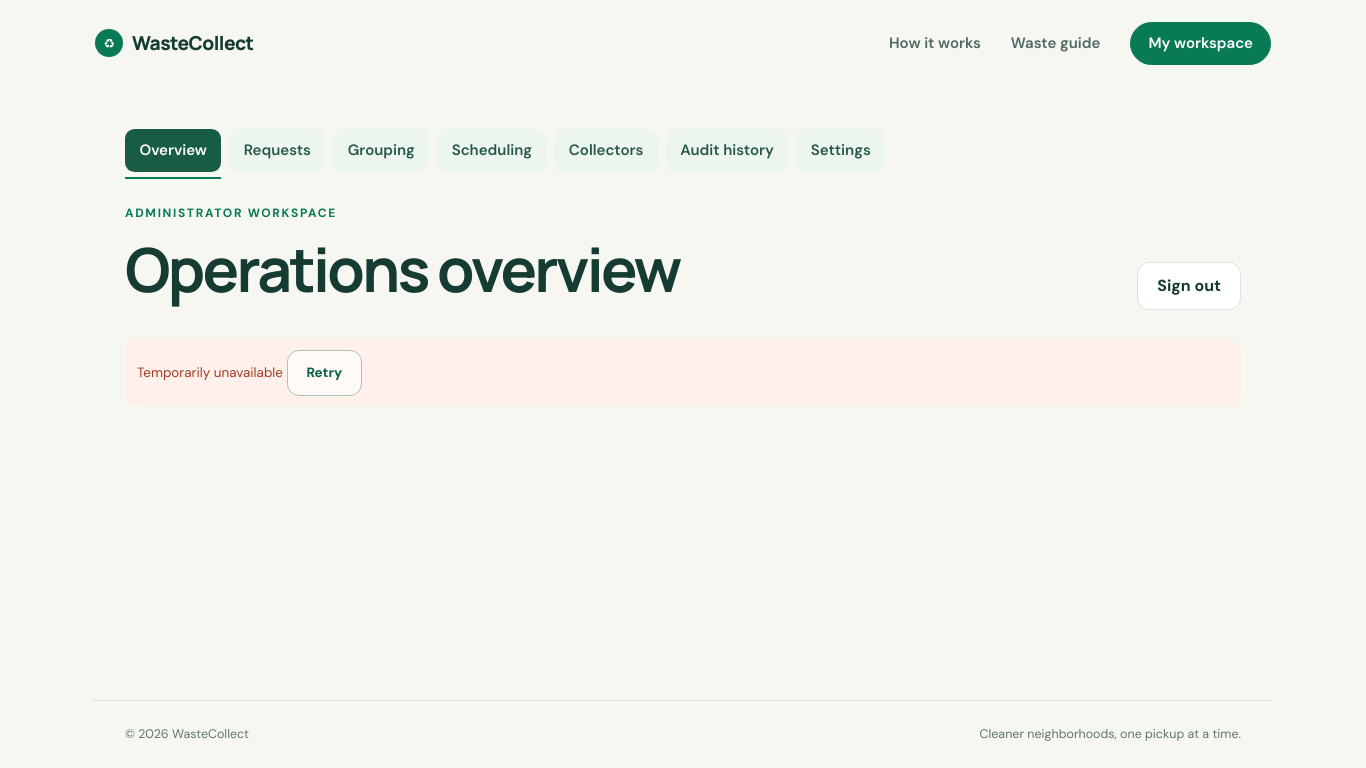
an operations API error clears the spinner and can be retried
This screenshot has width=1366, height=768.
Check: the message shows "Temporarily unavailable", box [137,364,283,381]
Click the button "Retry" at (324, 373), box [286,350,362,396]
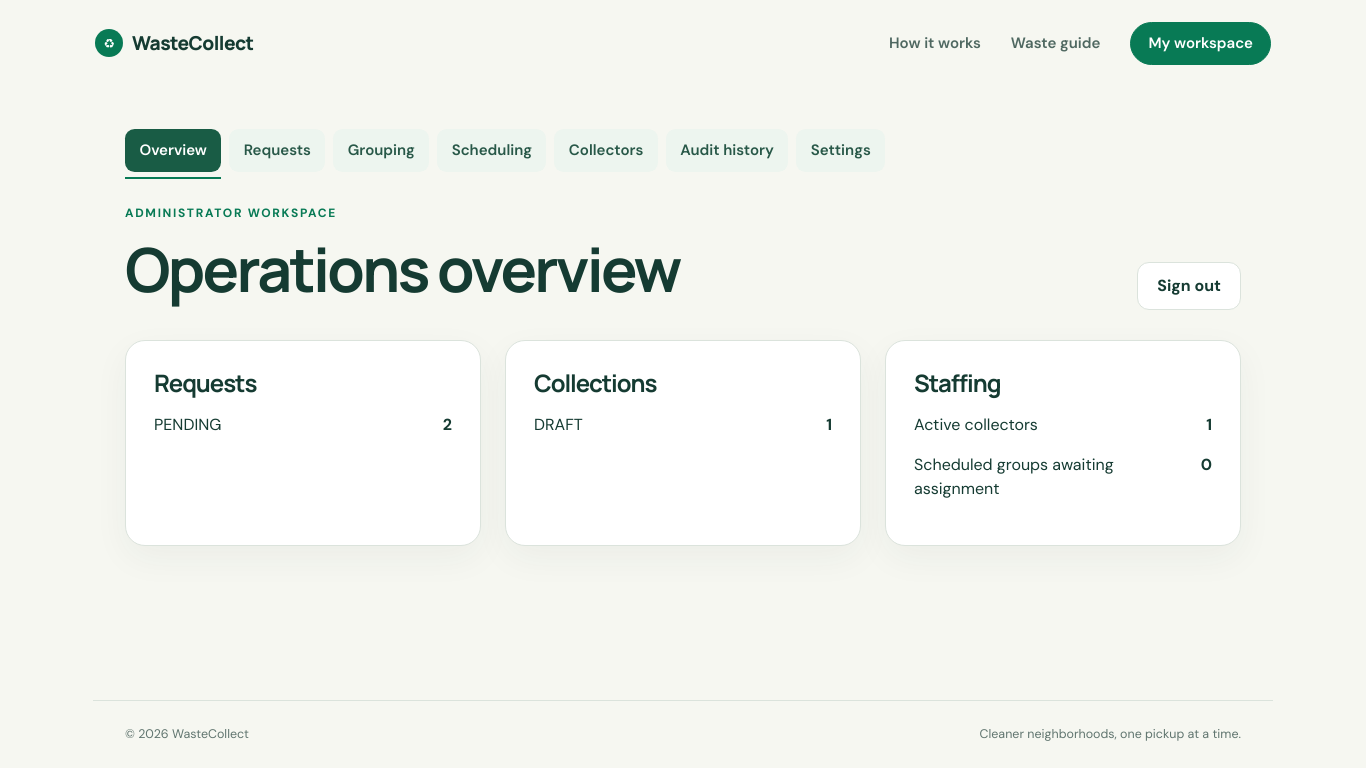
Check: the heading "Staffing" is shown, box [914,366,1000,399]
Check: the message "Temporarily unavailable Retry" is gone
